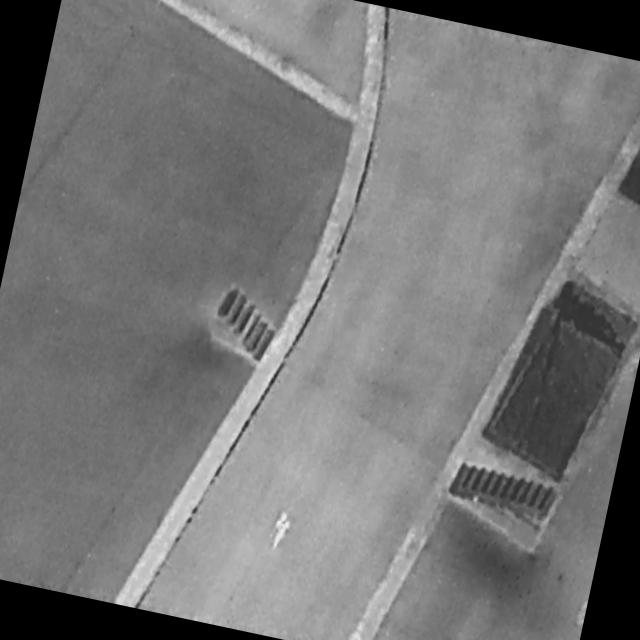person: (266, 506, 296, 555)
